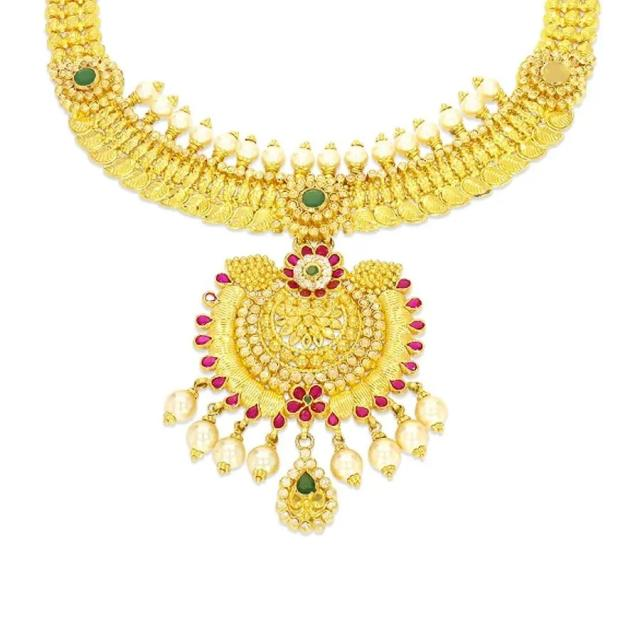missing gem: (543, 61, 570, 83)
